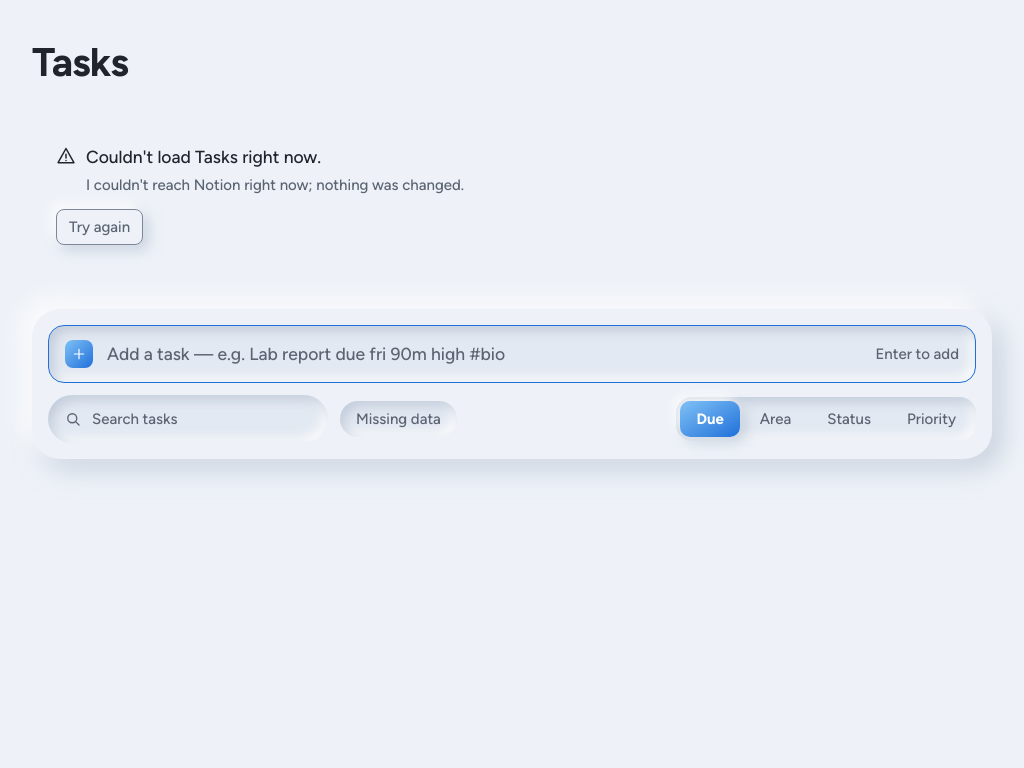
Test case: TasksPage › a first-load error is an alert with Try again that refetches the list
expect the message shows "Couldn't load Tasks right now.": met, box [86,146,321,167]
expect the message shows "I couldn't reach Notion right now": met, box [86,176,464,194]
Step 1. Click the button "Try again" → (100, 227), box [56,209,143,245]
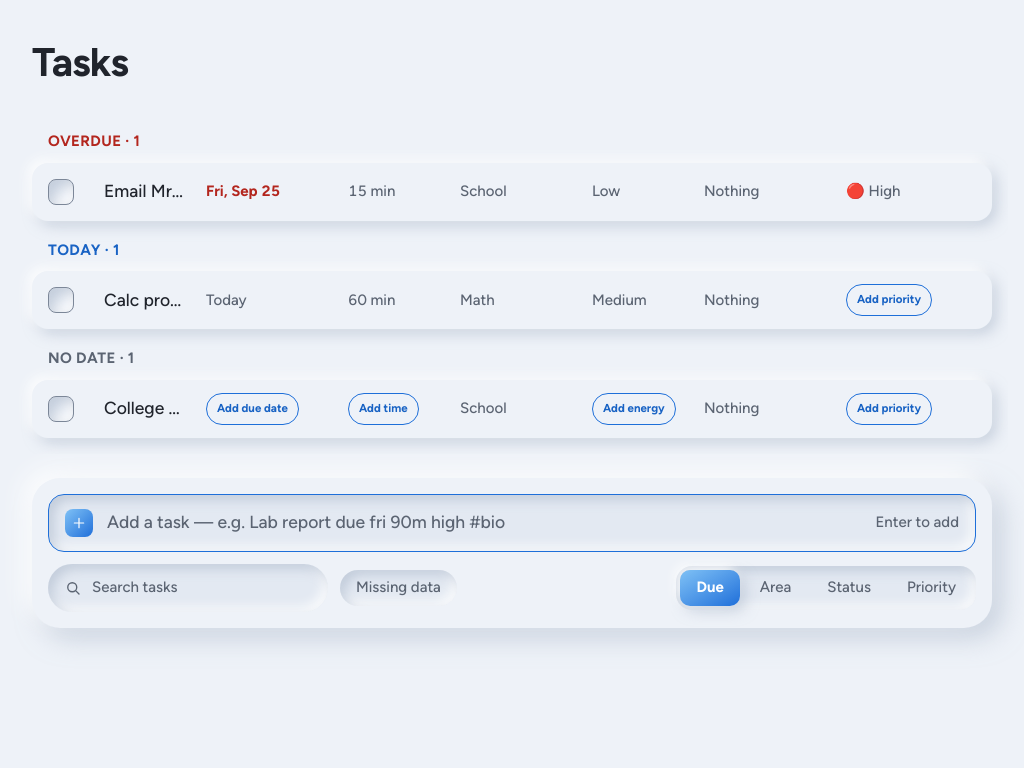
expect the text "Calc problem set 4" is shown: met, box [104,287,186,313]
